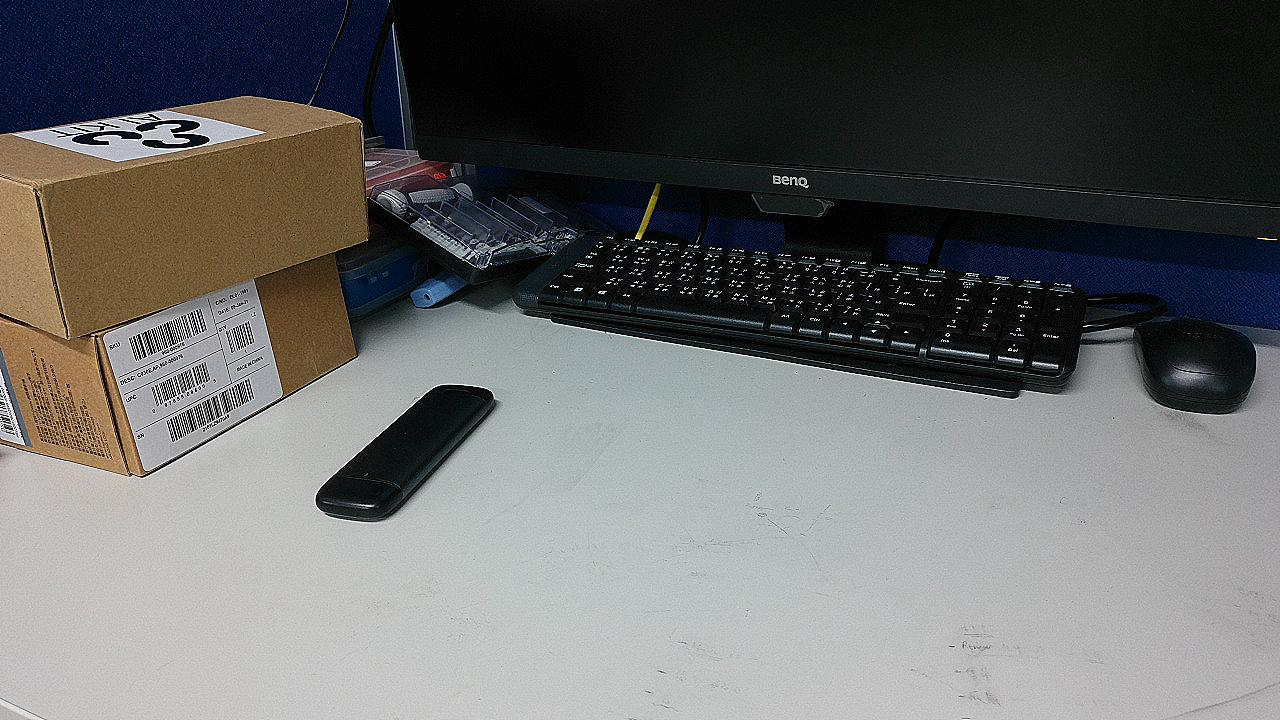blade: (611, 459, 772, 512)
grasp: (421, 476, 636, 581)
